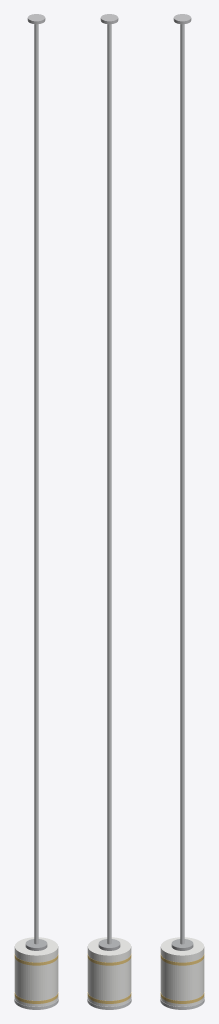
Rendered from robo03_deployable_boom_xs_deployed.glb.
3 renders of one model, left to right at view 1: azimuth 30°, elevation 25°; view 2: azimuth 150°, elevation 25°; view 3: azimuth 330°, elevation 25°, orthographic.
Parts seen in each view (by area): view 1: boom_stem, canister, canister_bands, boom_lid, base, boom_tip; view 2: boom_stem, canister, canister_bands, boom_lid, base, boom_tip; view 3: boom_stem, canister, canister_bands, boom_lid, base, boom_tip.
Part boxes in pixels (box(x1,y1,x2,y2)): boom_stem: box(34, 24, 38, 944); canister: box(14, 937, 58, 1006); canister_bands: box(14, 954, 58, 1003); boom_lid: box(25, 939, 47, 950); base: box(14, 997, 58, 1009); boom_tip: box(27, 14, 45, 24); boom_stem: box(107, 24, 111, 944); canister: box(87, 937, 131, 1006); canister_bands: box(87, 954, 131, 1003); boom_lid: box(98, 939, 120, 950); base: box(87, 997, 131, 1009); boom_tip: box(100, 14, 118, 24); boom_stem: box(180, 24, 184, 944); canister: box(160, 937, 204, 1006); canister_bands: box(160, 954, 204, 1003); boom_lid: box(171, 939, 193, 950); base: box(160, 997, 204, 1009); boom_tip: box(173, 14, 191, 24).
Bounding box in the file's own units: 0.4077 × 10 × 0.4079.
